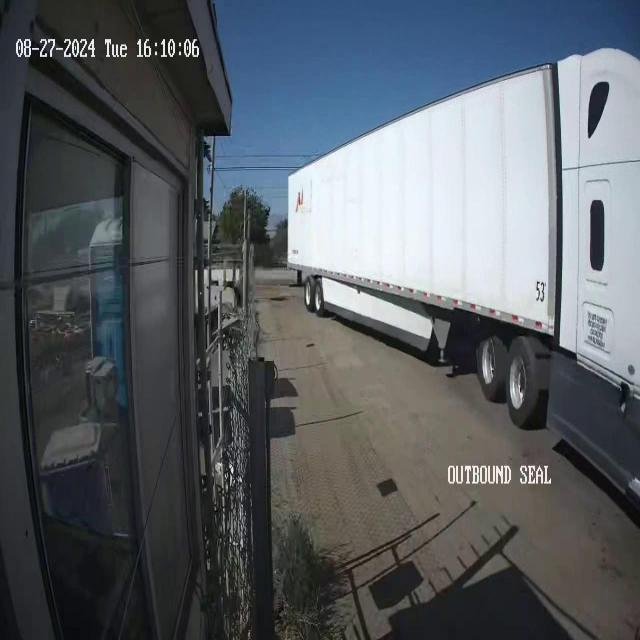TRUCK_CONTAINER: (286, 46, 638, 509)
